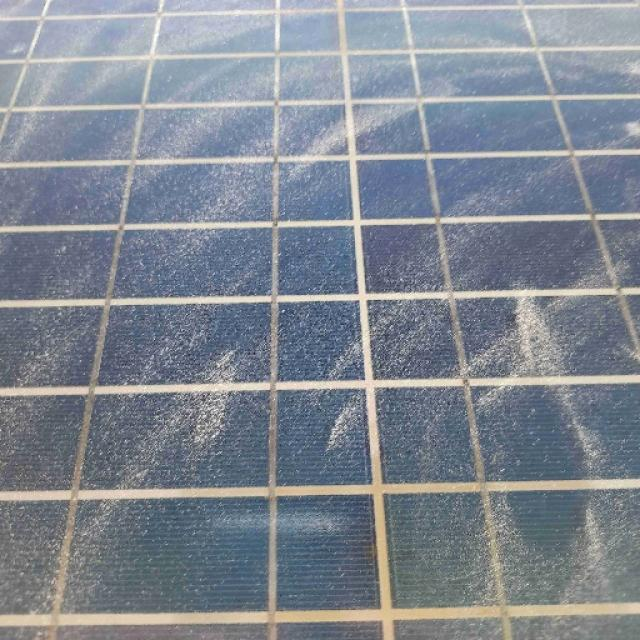Dirty: (0, 0, 640, 567)
